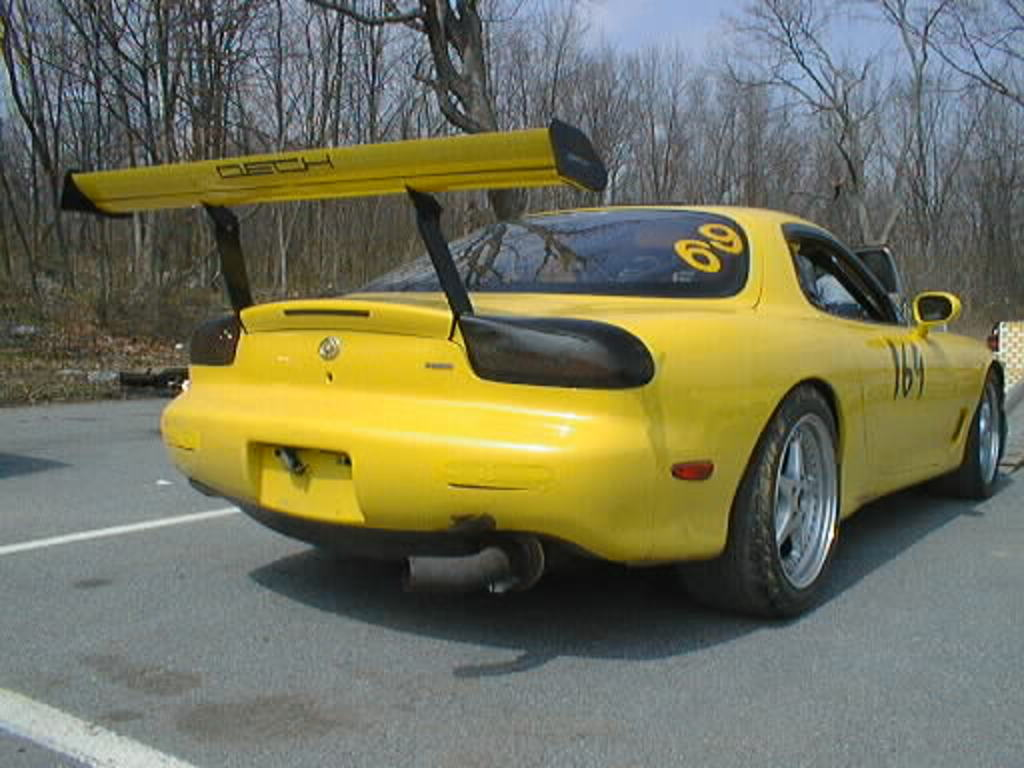mobil: (170, 128, 1011, 670)
